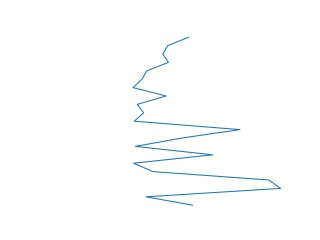crevasseRiverBedLagDeposit: (129, 33, 283, 209)
